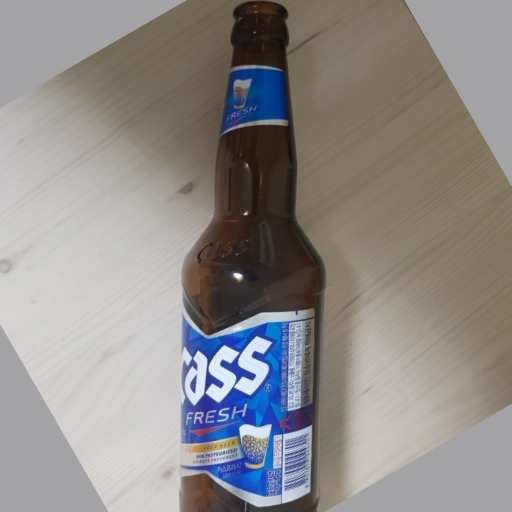Glass_1: (180, 1, 329, 512)
